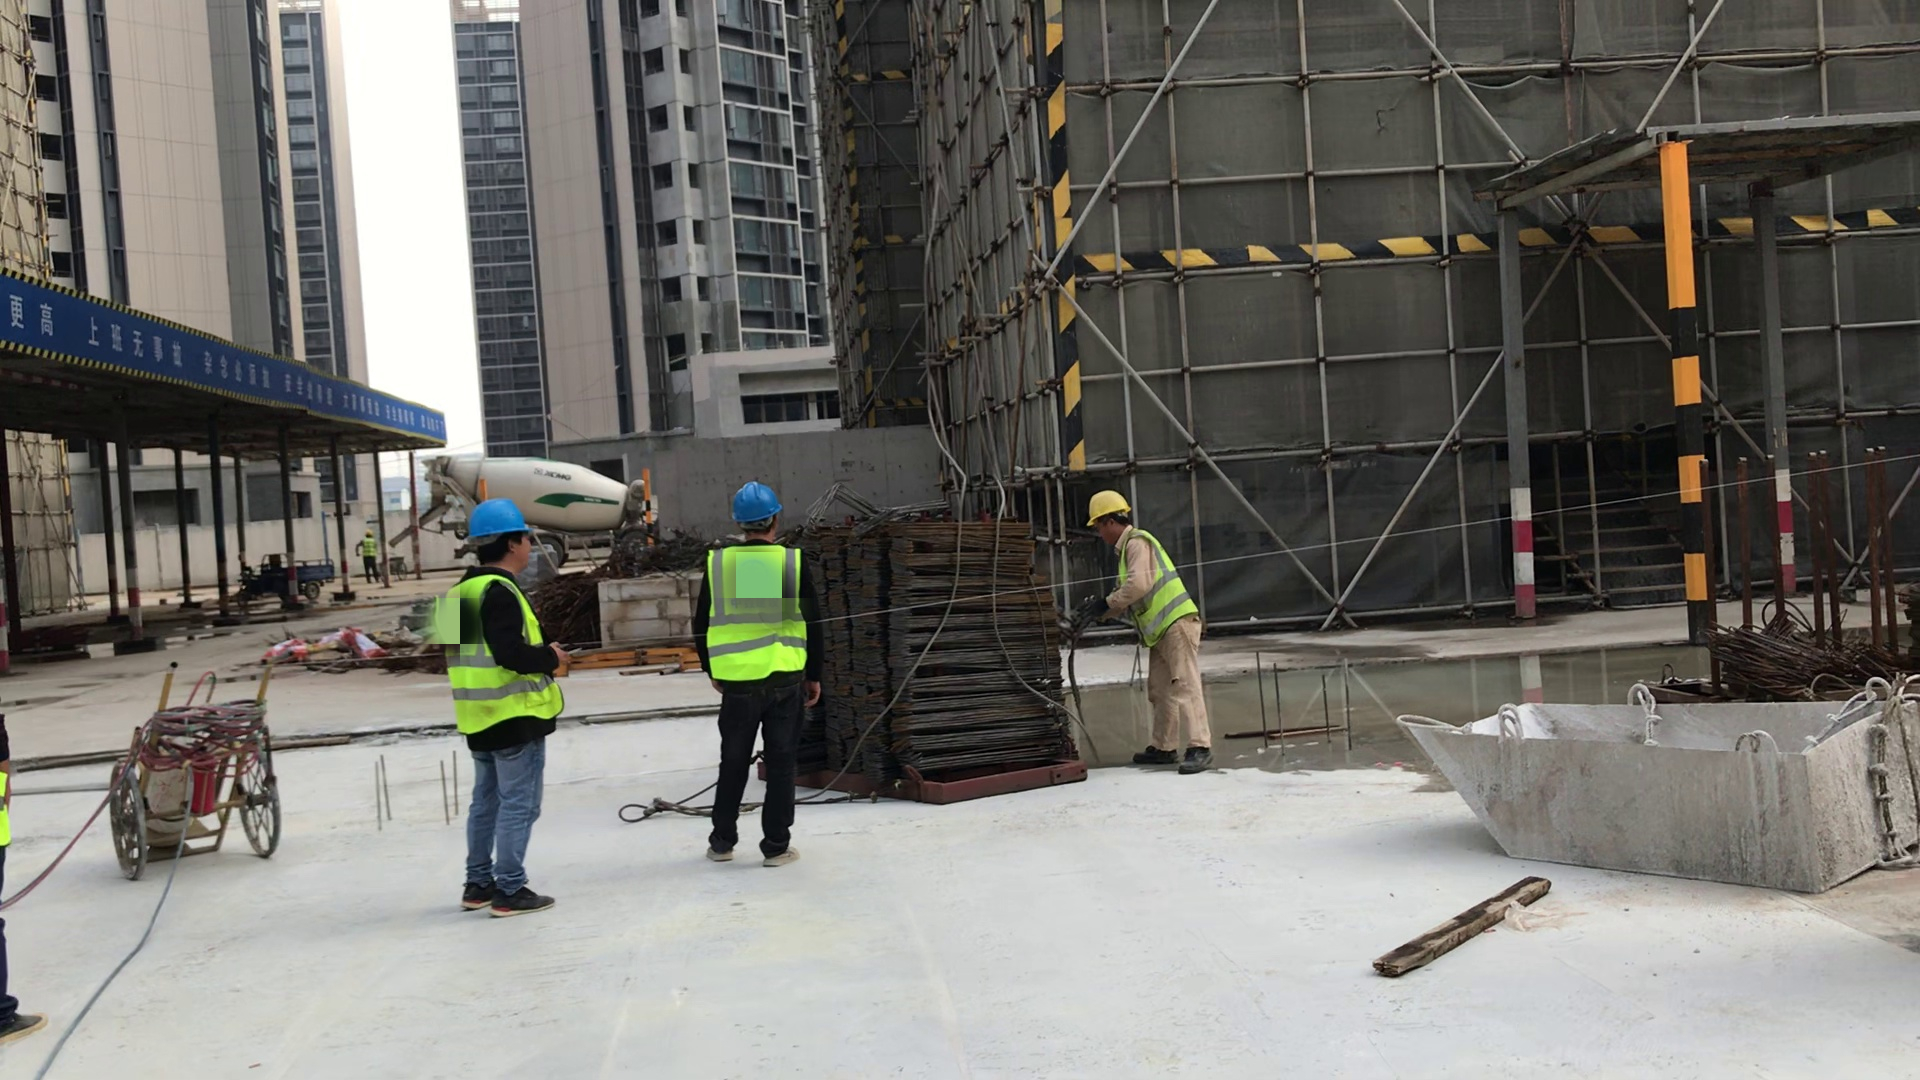handcart: (111, 657, 278, 880)
helmet: (468, 501, 529, 536), (731, 481, 782, 520), (1087, 493, 1133, 527)
hopper: (1401, 696, 1920, 899)
person: (698, 480, 820, 866), (443, 506, 557, 915), (1081, 493, 1208, 773), (356, 531, 380, 585)
slogan: (1, 279, 450, 445)
vest: (444, 579, 561, 734), (701, 546, 811, 680), (1120, 531, 1196, 647), (361, 539, 376, 558)
